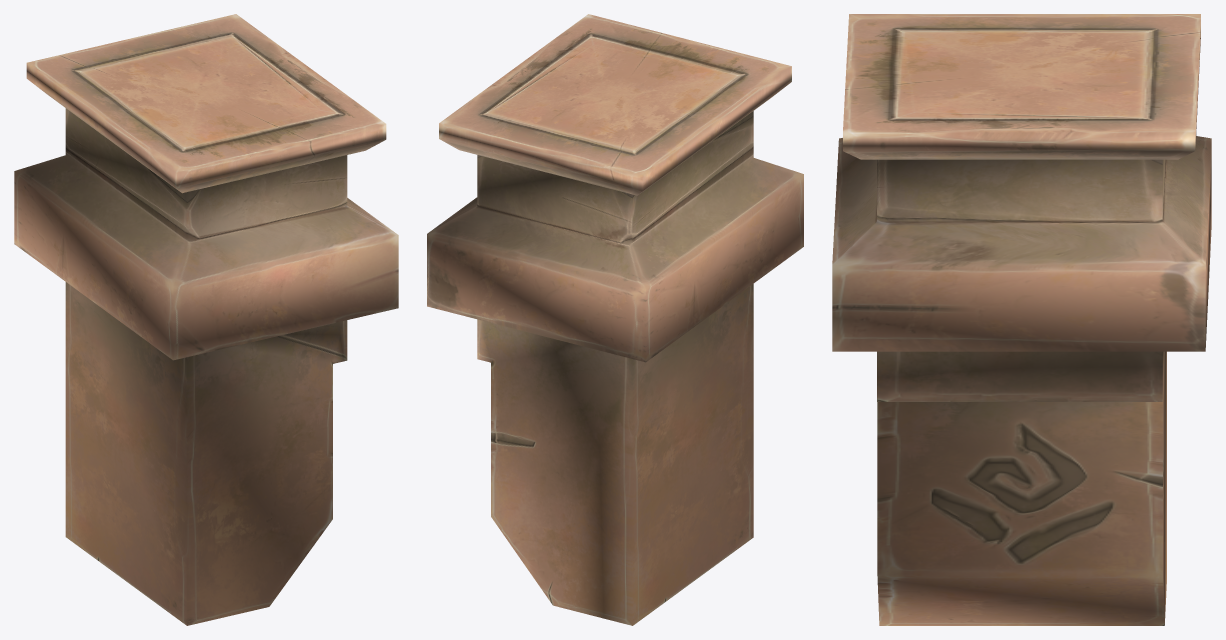
Rendered from column.fbx.
The picture shows the model from 3 angles, left to right: view 1: azimuth 30°, elevation 25°; view 2: azimuth 150°, elevation 25°; view 3: azimuth 270°, elevation 25°; orthographic projection. The views are drawn at different scales.
Parts seen in each view (by area): view 1: polySurface3; view 2: polySurface3; view 3: polySurface3.
Boxes of the visible parts, x1=… form: polySurface3: x1=14, y1=14, x2=398, y2=625; polySurface3: x1=427, y1=14, x2=803, y2=625; polySurface3: x1=832, y1=14, x2=1211, y2=625.
Size of the model in its own units: 318 by 642 by 401.
